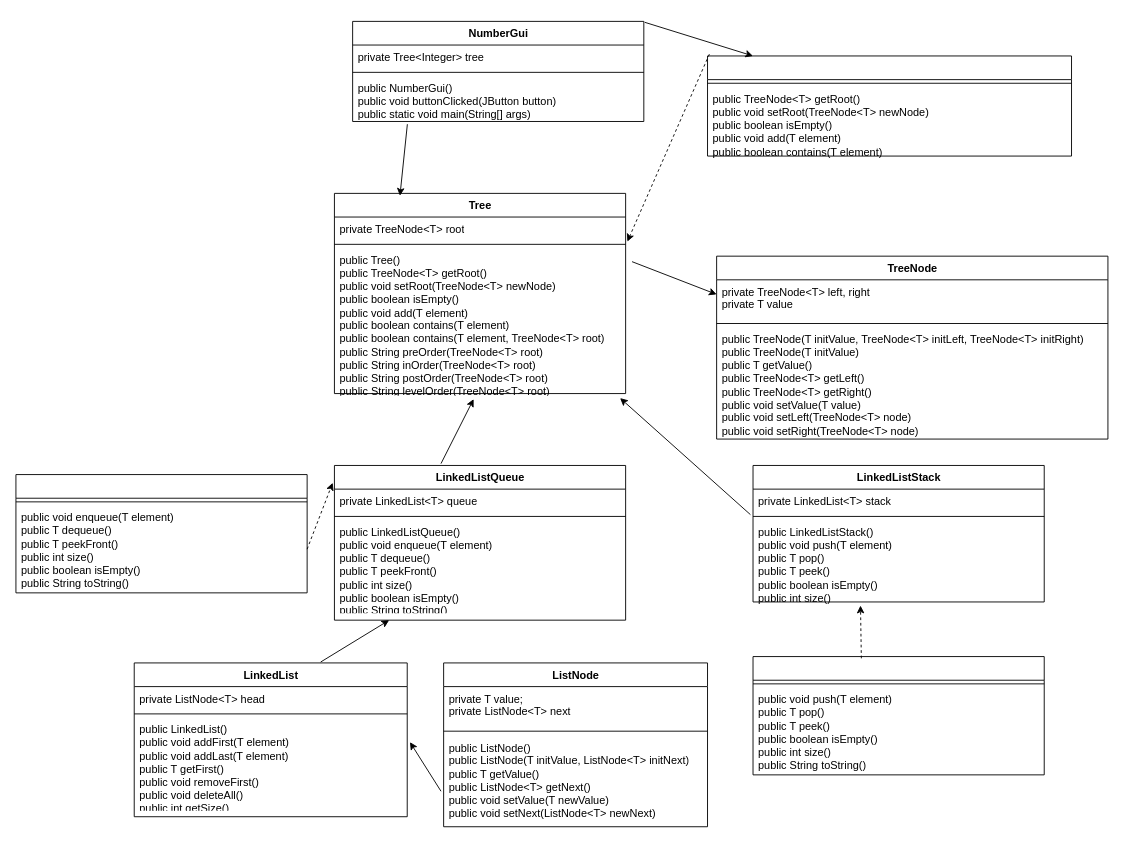
This 1124x845 diagram has some shape labels left out. The box of each missing label's shape, as (x1, y1, x2, y2) in pixels:
BinaryTreeADT: (707, 55, 1072, 156)
QueueADT: (15, 474, 307, 593)
StackADT: (752, 656, 1044, 775)
